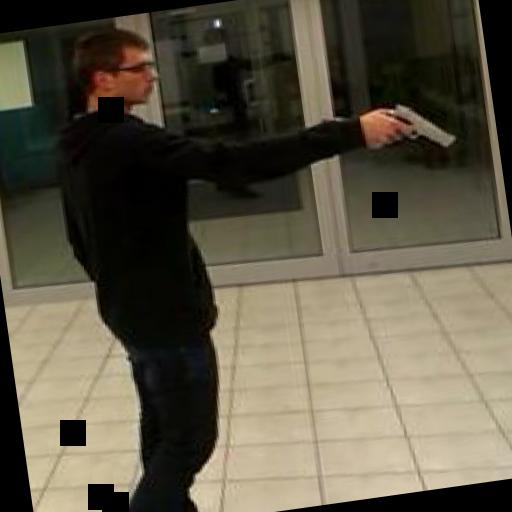Handgun: (360, 91, 454, 156)
